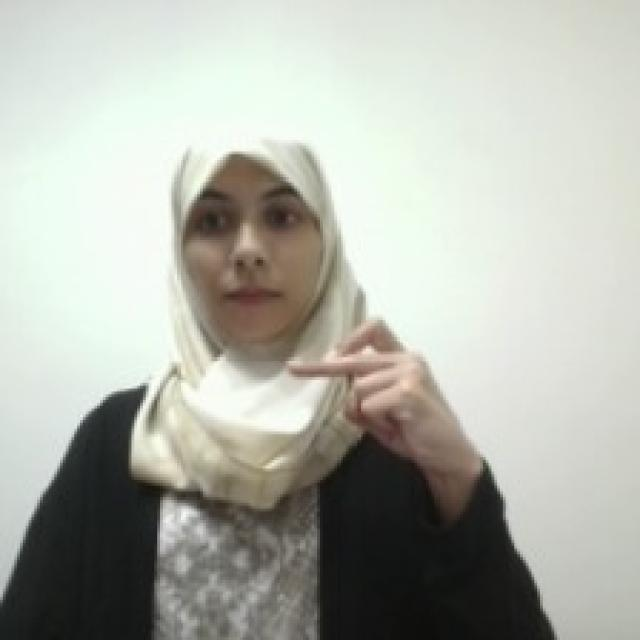sunday: (283, 311, 445, 458)
